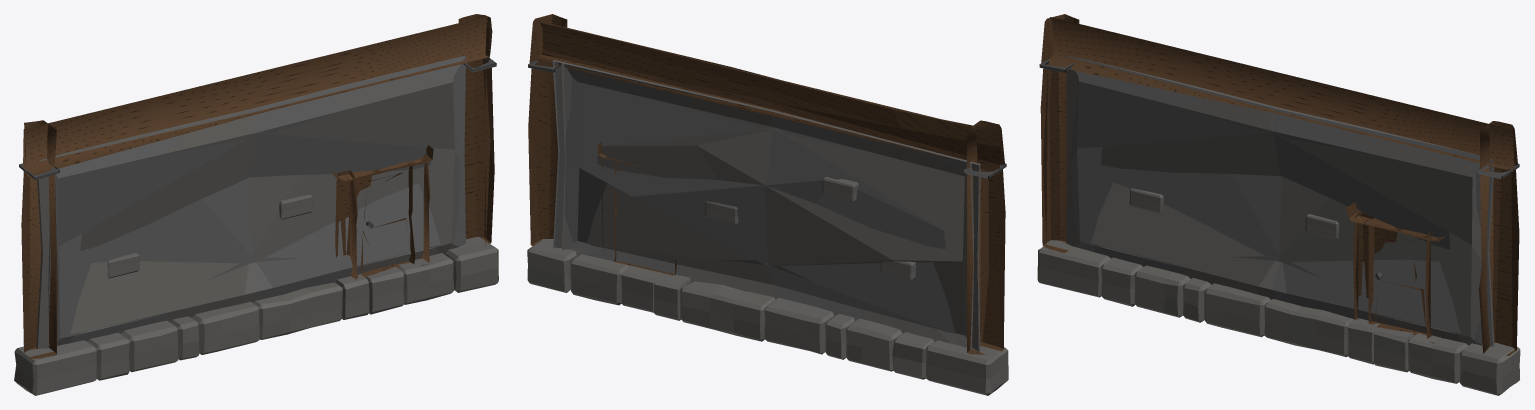
File: door_stone_wall.glb
3 renders of one model, left to right at view 1: azimuth 30°, elevation 25°; view 2: azimuth 150°, elevation 25°; view 3: azimuth 330°, elevation 25°, orthographic.
Visible parts, largest first — view 1: door_stone_wall; view 2: door_stone_wall; view 3: door_stone_wall.
Boxes of the visible parts, <box> form: door_stone_wall: <box>14,14,498,395</box>; door_stone_wall: <box>527,14,1008,395</box>; door_stone_wall: <box>1037,14,1520,395</box>.
Bounding box in the file's own units: 12.36 × 6.56 × 1.1.
Materials: 4 (4 with a texture image).
